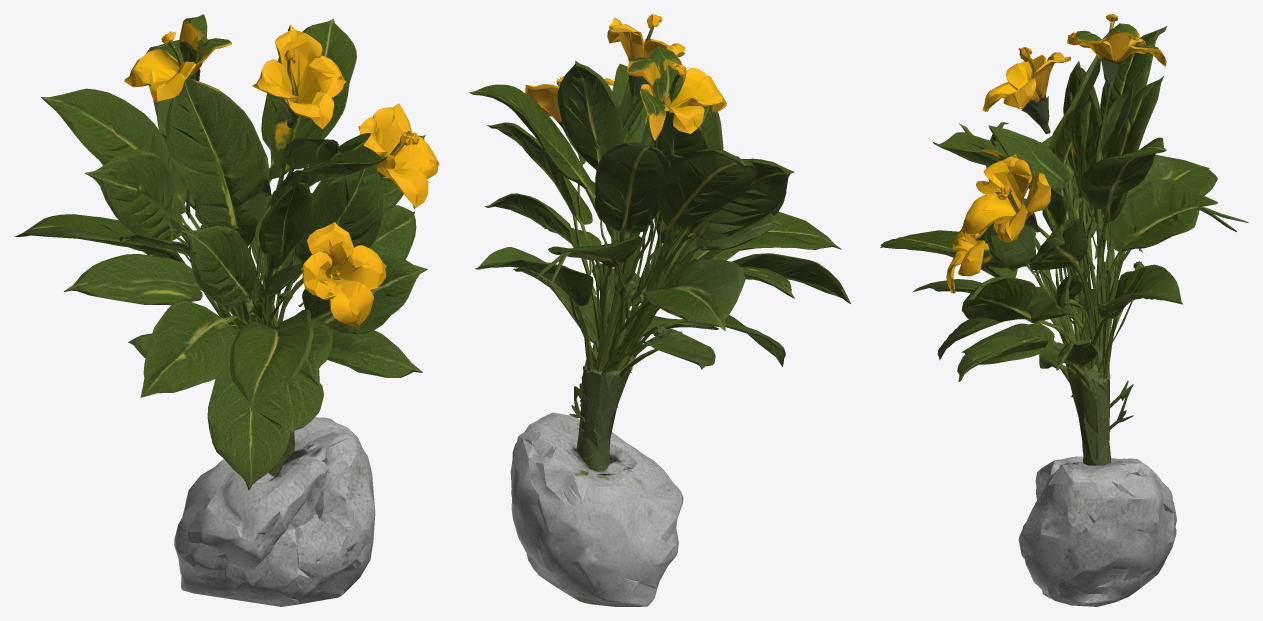
The model's file is fiori.glb.
The picture shows the model from 3 angles, left to right: view 1: azimuth 30°, elevation 25°; view 2: azimuth 150°, elevation 25°; view 3: azimuth 270°, elevation 25°; orthographic projection. The views are drawn at different scales.
Bounding box in the file's own units: 1.19 × 1.9 × 1.21.
Materials: 1 (1 with a texture image).
